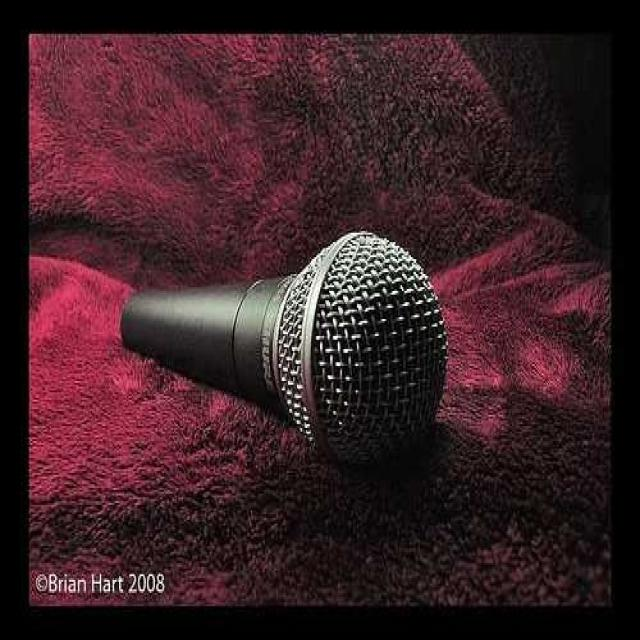microphone: (122, 232, 447, 461)
